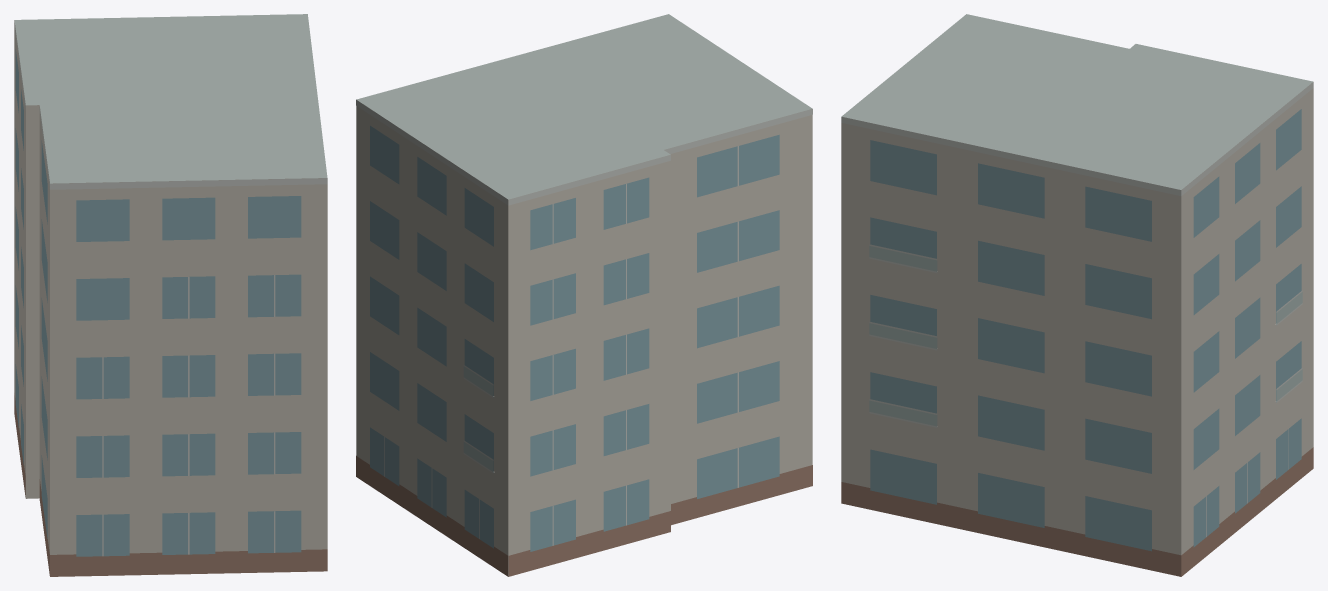
Rendered from survey-upis-33002264.glb.
3 views of the same model, side by side, from view 1: azimuth 30°, elevation 25°; view 2: azimuth 150°, elevation 25°; view 3: azimuth 270°, elevation 25° (orthographic). The views are drawn at different scales.
Visible parts, largest first — view 1: survey-upis-33002264.tmp; view 2: survey-upis-33002264.tmp; view 3: survey-upis-33002264.tmp.
Part boxes in pixels (bbox=[...]): survey-upis-33002264.tmp: bbox=[14, 14, 327, 576]; survey-upis-33002264.tmp: bbox=[356, 14, 812, 576]; survey-upis-33002264.tmp: bbox=[841, 14, 1313, 576].
Size of the model in its own units: 14.9 by 15.25 by 16.89.
